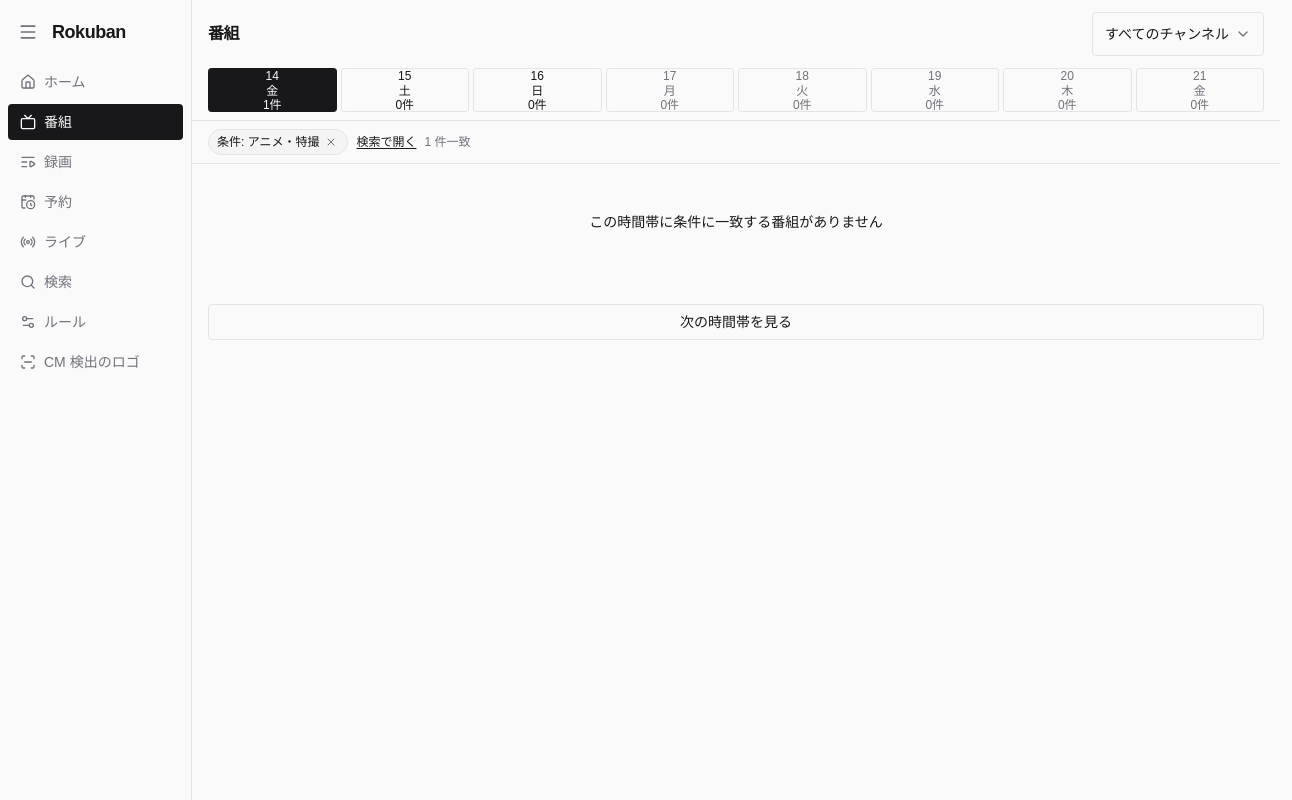
Test: ProgramsPage の表示形式 › 一致番組が後の時間窓にあるとき、空の条件窓から手動で進める
Expected: the text "この時間帯に条件に一致する番組がありません" is shown, [589,214,883,230]
Click the button "次の時間帯を見る" at (736, 322), box [208,304,1264,340]
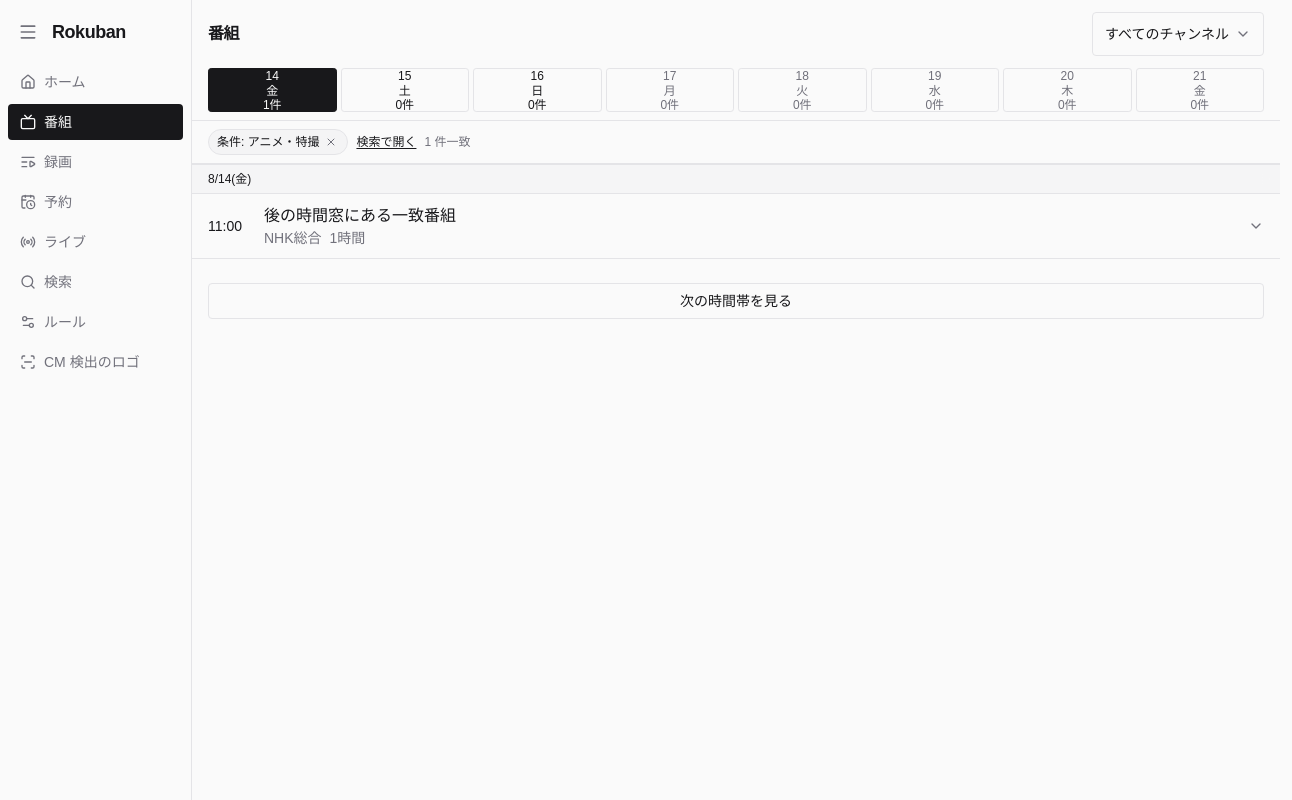
Expected: the text "後の時間窓にある一致番組" is shown, [264,207,456,224]
